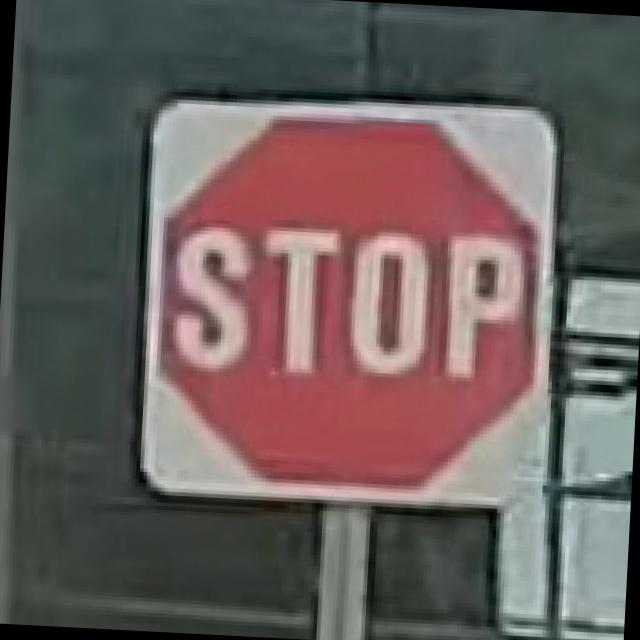mandatorystop_sign: (124, 83, 566, 516)
